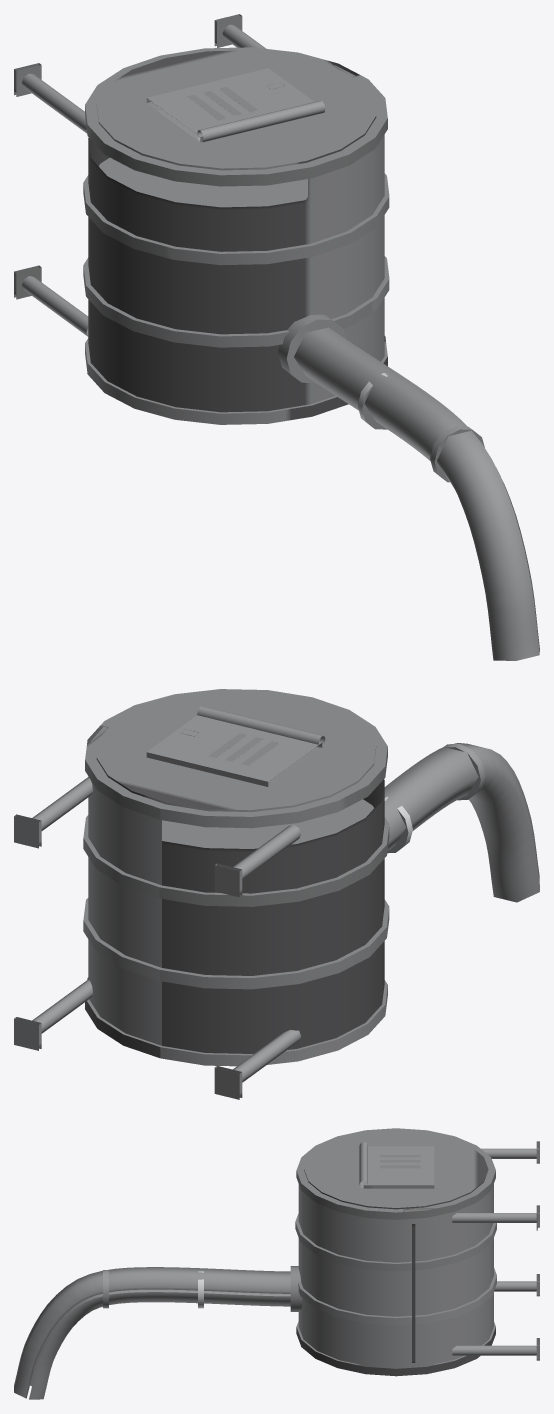
3 renders of one model, top to bottom at view 1: azimuth 30°, elevation 25°; view 2: azimuth 150°, elevation 25°; view 3: azimuth 270°, elevation 25°, orthographic. The views are drawn at different scales.
Bounding box in the file's own units: 0.744 × 0.9536 × 1.94.
